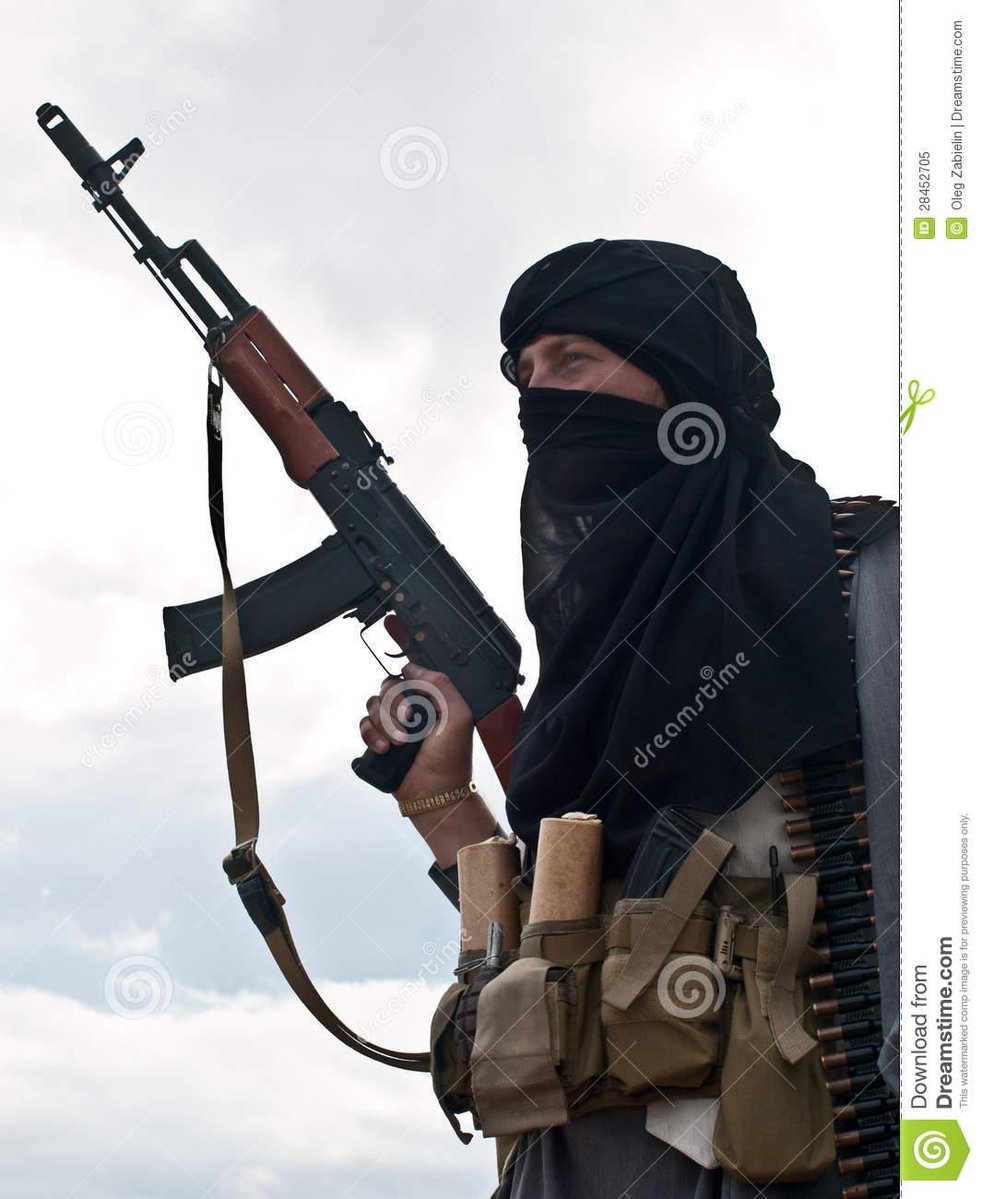larga: (35, 97, 531, 799)
